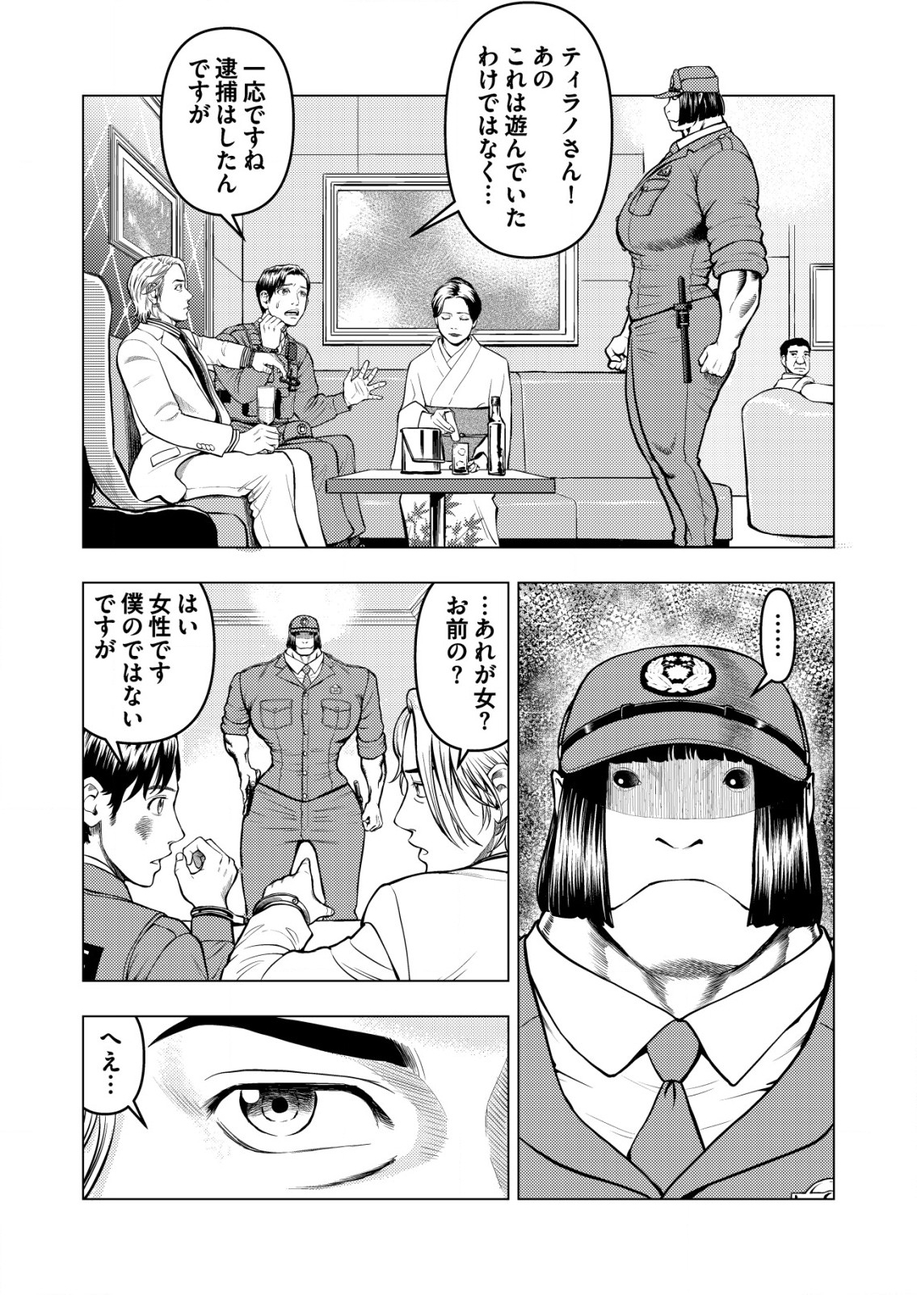bubbles: (427, 1, 616, 267), (156, 26, 300, 244), (79, 578, 220, 769), (403, 582, 515, 769), (79, 1011, 160, 1133), (748, 585, 810, 700)
